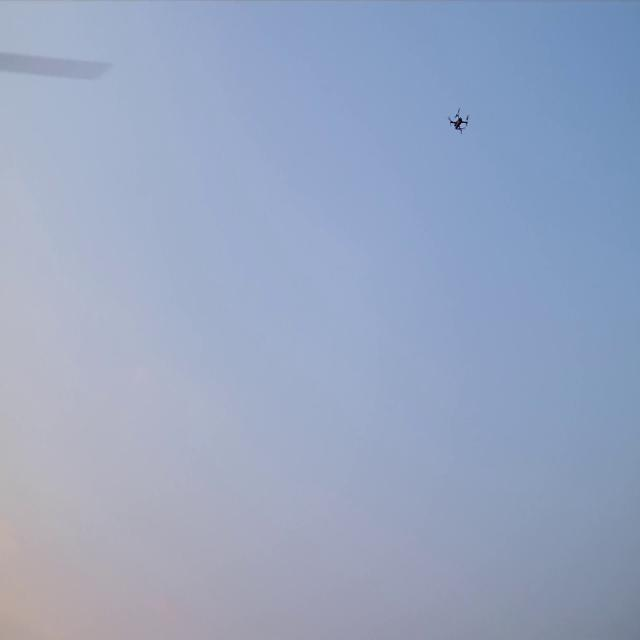UAV: (447, 107, 469, 134)
